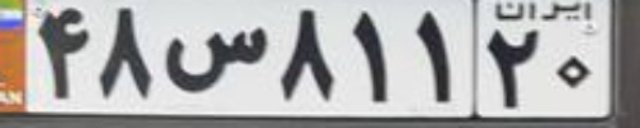0: (549, 55, 594, 88)
1: (408, 9, 452, 102), (345, 11, 390, 101)
2: (481, 28, 539, 108)
4: (34, 6, 89, 98)
8: (96, 7, 152, 98), (282, 9, 335, 101)
sin: (165, 25, 265, 93)
